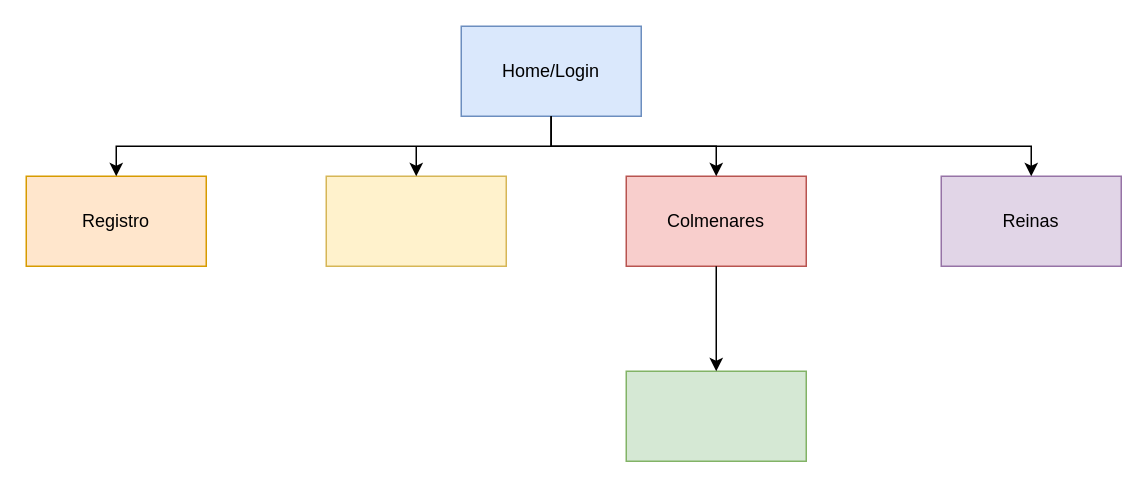
The diagram is 1148 pixels wide and 488 high, and some of its shapes have lost their labels. The shapes that lost their labels are listed below. From the top down, each one's centre as x and y in pixels, then its label:
At pixel 415 220: "Ubicaciones".
At pixel 715 415: "Colmenas".
